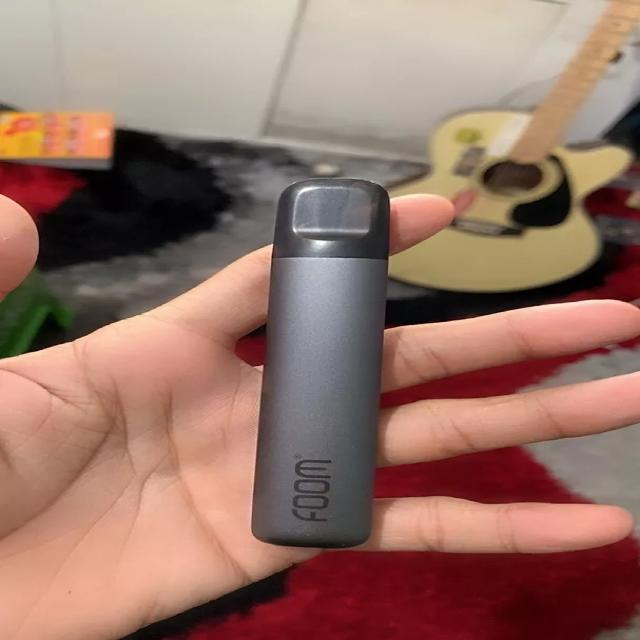Hazard: (250, 178, 384, 546)
